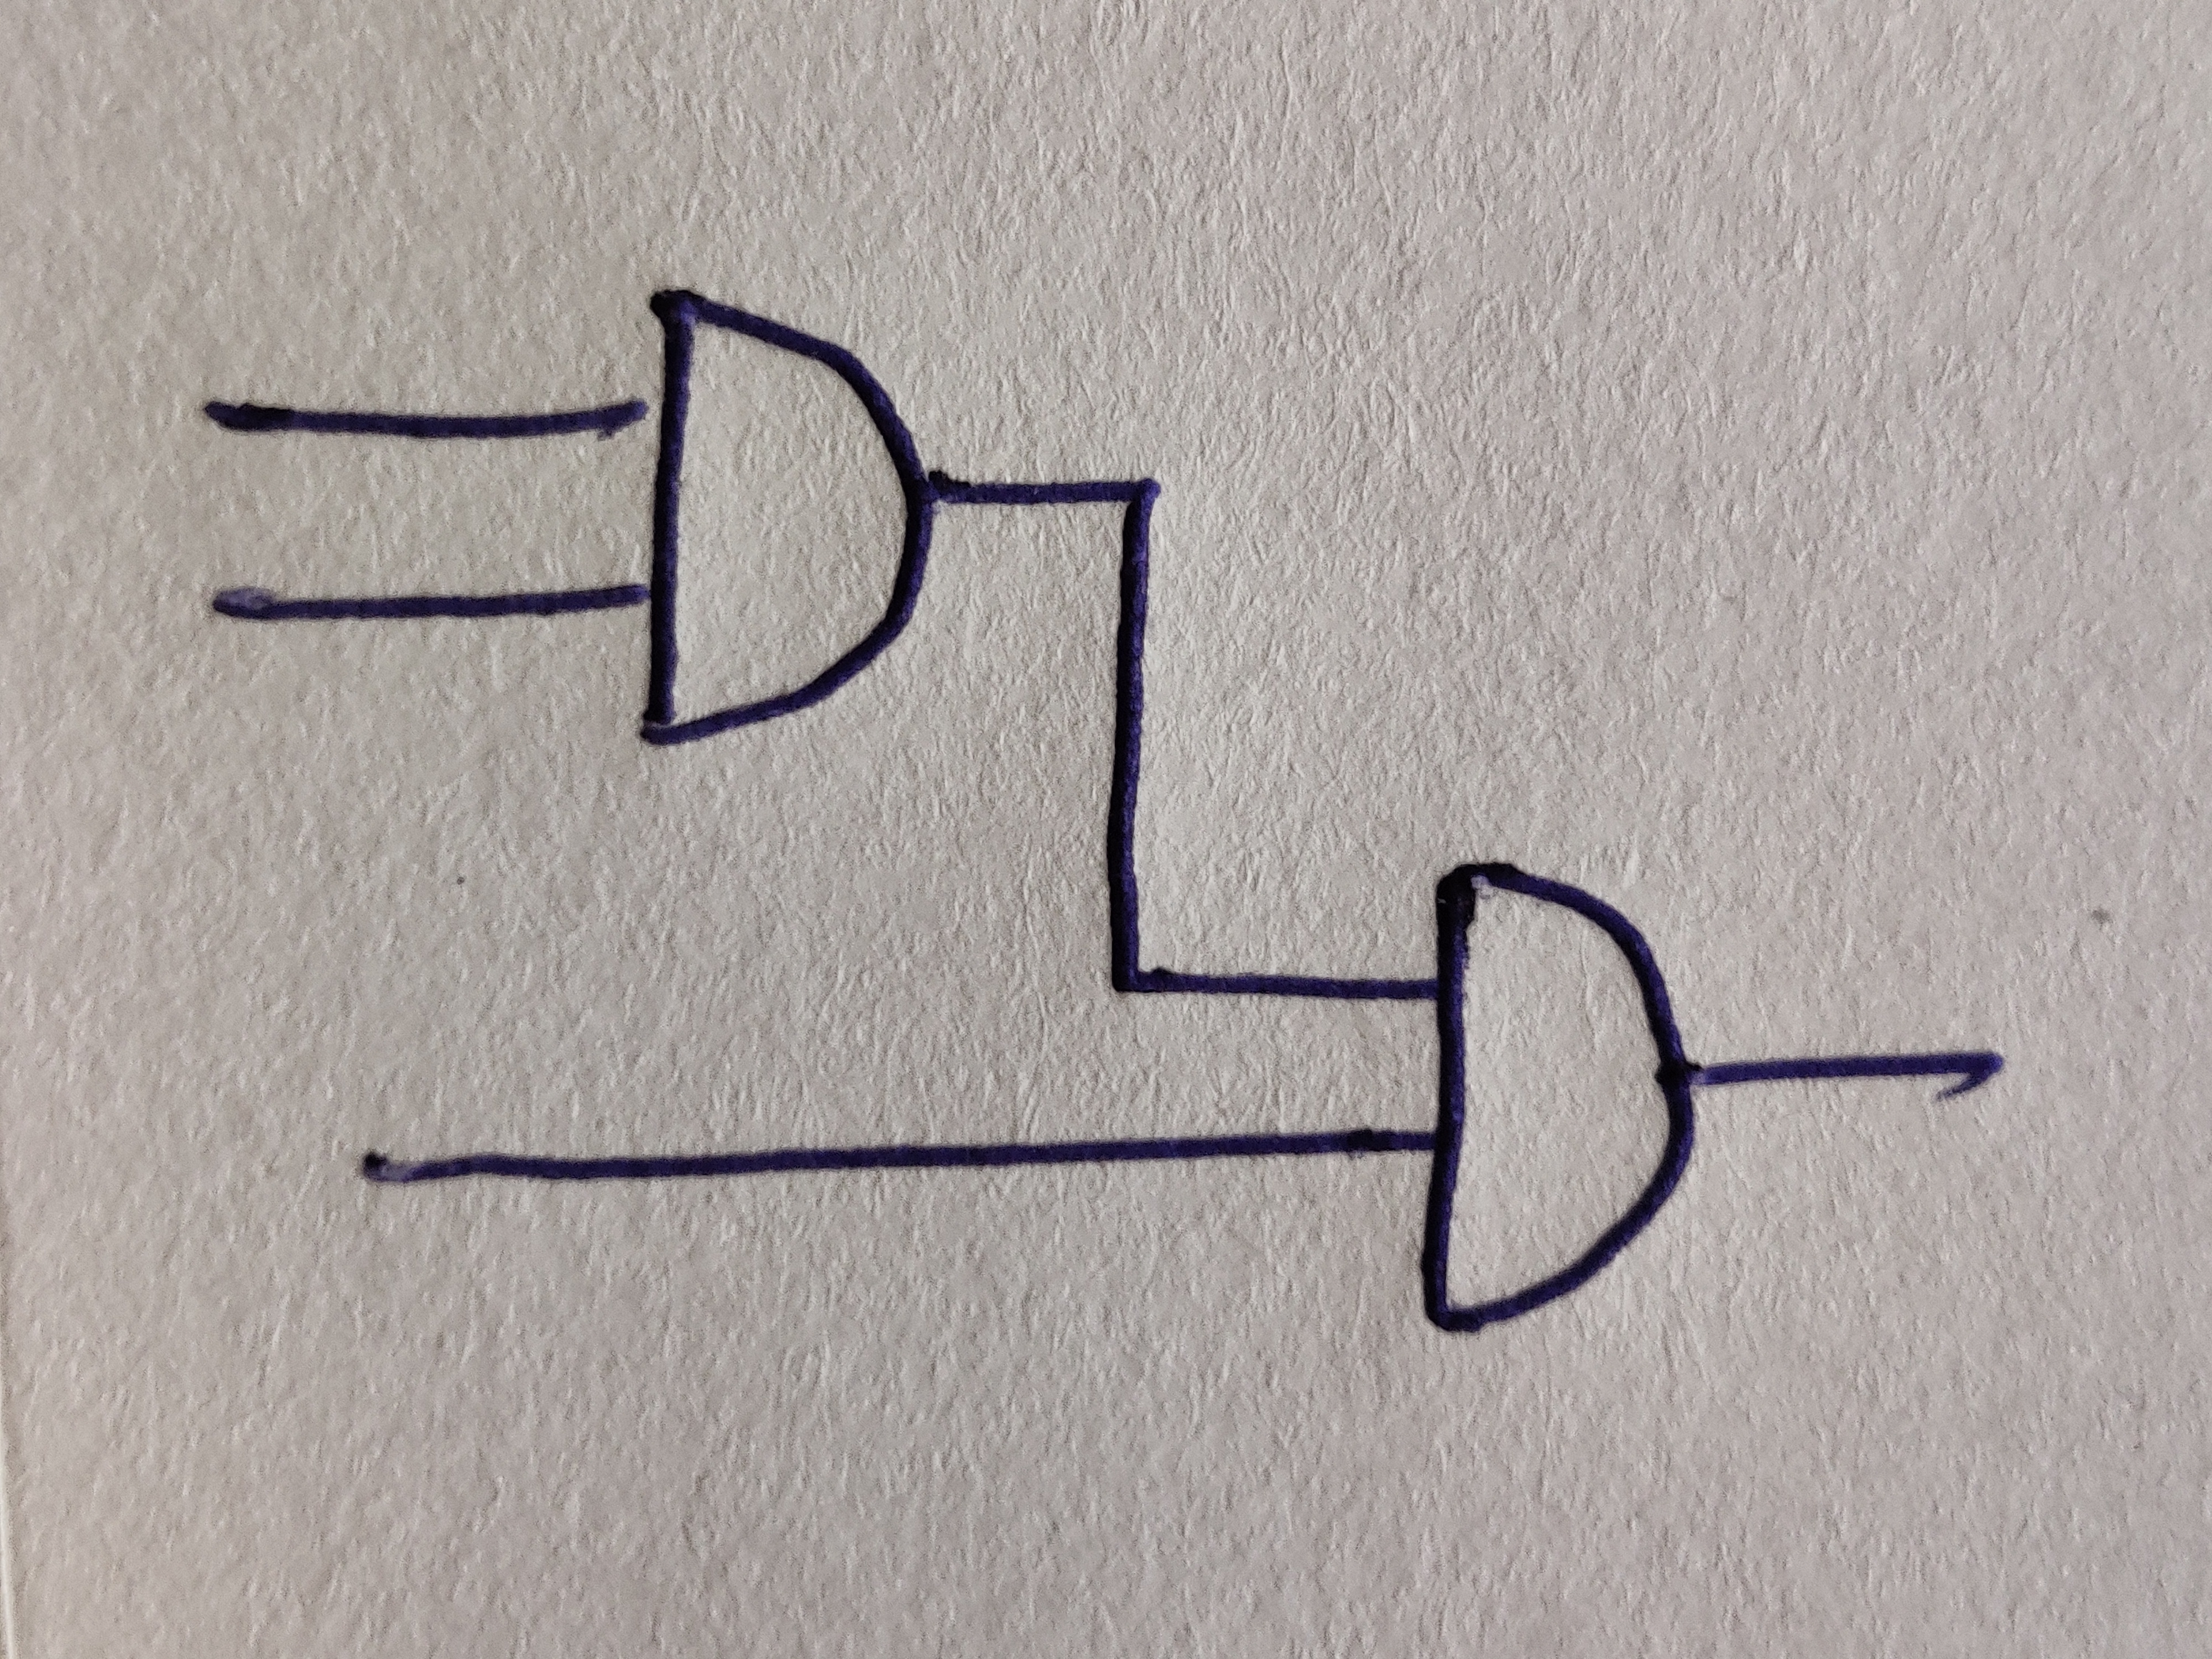and: (639, 289, 932, 748), (1425, 861, 1693, 1335)
